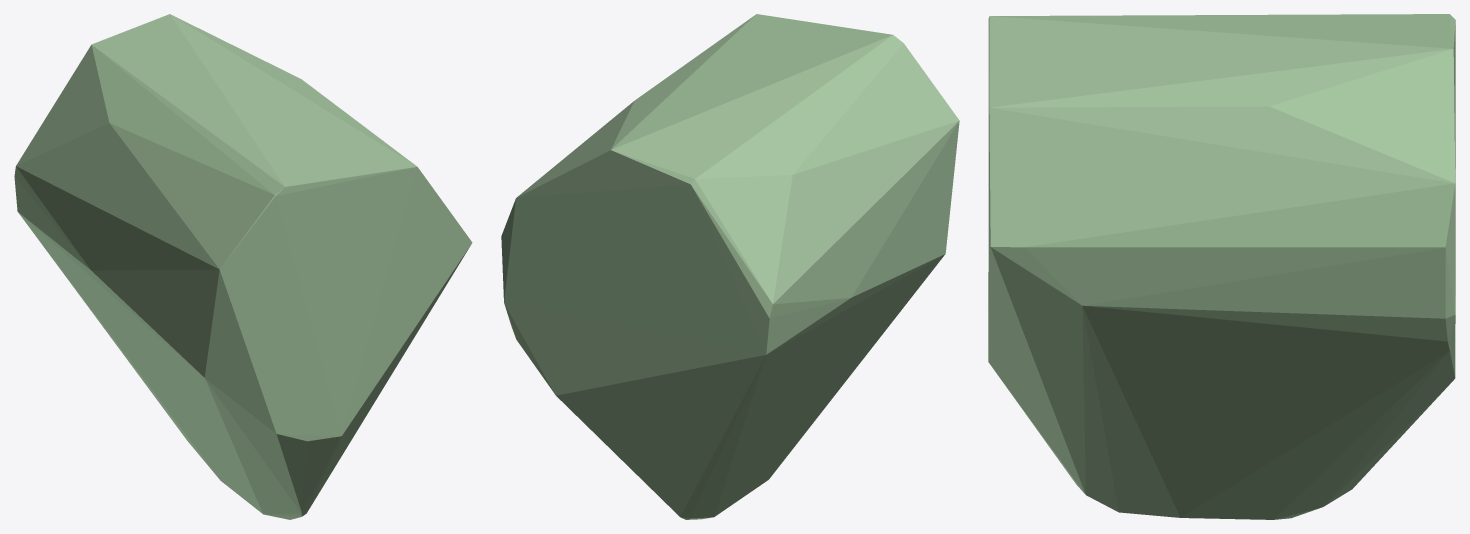
File: kitchenware_mug_p01.glb
3 renders of one model, left to right at view 1: azimuth 30°, elevation 25°; view 2: azimuth 150°, elevation 25°; view 3: azimuth 270°, elevation 25°, orthographic. The views are drawn at different scales.
Parts seen in each view (by area): view 1: geometry_0; view 2: geometry_0; view 3: geometry_0.
Part boxes in pixels (x1=…): geometry_0: x1=14, y1=14, x2=472, y2=519; geometry_0: x1=501, y1=14, x2=959, y2=519; geometry_0: x1=988, y1=14, x2=1455, y2=519.
Size of the model in its own units: 0.3253 by 0.4745 by 0.4152.
